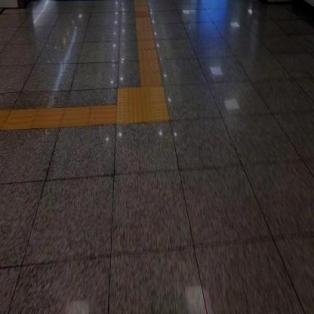Podoctatil: (104, 68, 180, 153), (0, 104, 114, 133), (131, 0, 164, 86)
